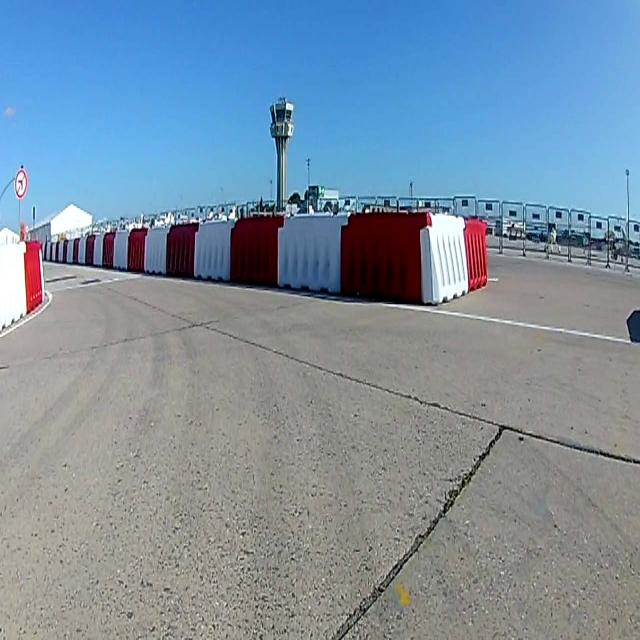soladonulmez: (15, 169, 29, 197)
